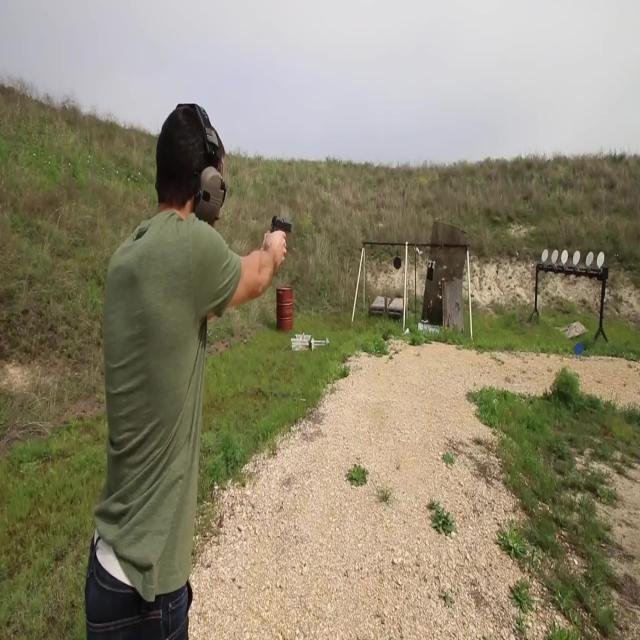Weapon: (264, 189, 317, 290)
